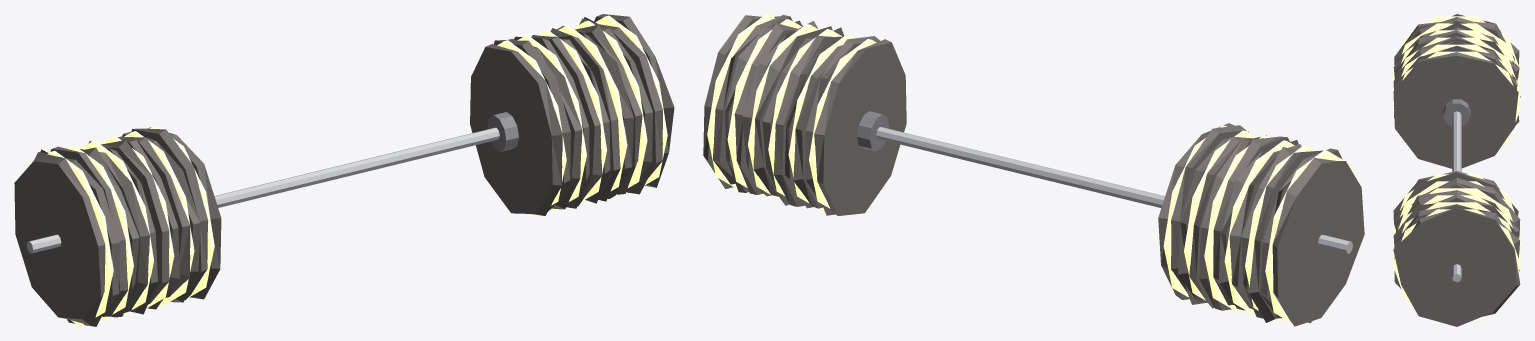
Rendered from Inferno_Barbell.fbx.
The picture shows the model from 3 angles, left to right: view 1: azimuth 30°, elevation 25°; view 2: azimuth 150°, elevation 25°; view 3: azimuth 270°, elevation 25°; orthographic projection. The views are drawn at different scales.
Visible parts, largest first — view 1: Inferno_Plates, Inferno_Glow, Inferno_Bar, Inferno_Collars; view 2: Inferno_Plates, Inferno_Glow, Inferno_Bar, Inferno_Collars; view 3: Inferno_Plates, Inferno_Glow, Inferno_Bar, Inferno_Collars.
Part boxes in pixels (left/top/right/bottom): Inferno_Plates: left=14, top=14, right=674, bottom=326; Inferno_Glow: left=28, top=15, right=667, bottom=325; Inferno_Bar: left=26, top=127, right=499, bottom=253; Inferno_Collars: left=487, top=112, right=518, bottom=151; Inferno_Plates: left=703, top=15, right=1364, bottom=326; Inferno_Glow: left=707, top=14, right=1352, bottom=326; Inferno_Bar: left=876, top=127, right=1352, bottom=253; Inferno_Collars: left=857, top=111, right=888, bottom=151; Inferno_Plates: left=1393, top=14, right=1520, bottom=326; Inferno_Glow: left=1393, top=16, right=1520, bottom=320; Inferno_Bar: left=1452, top=111, right=1461, bottom=282; Inferno_Collars: left=1443, top=99, right=1470, bottom=126.
Size of the model in its own units: 8.71 by 2.25 by 2.15.
